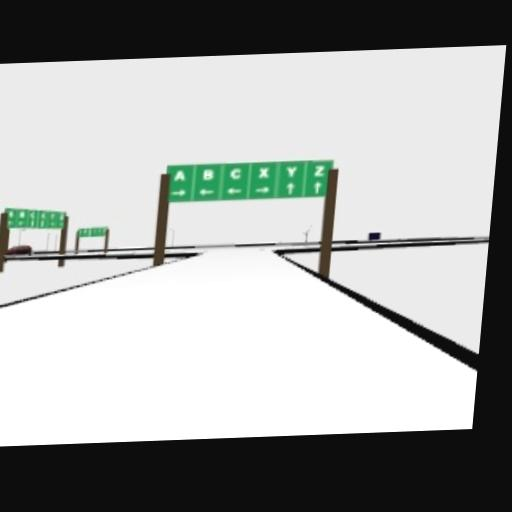A: (172, 168, 187, 183)
B: (200, 167, 215, 182)
C: (229, 167, 242, 180)
Left: (225, 187, 243, 196), (197, 188, 215, 197)
Right: (169, 189, 187, 199), (255, 185, 272, 194)
Straight: (285, 181, 296, 196), (312, 180, 323, 193)
X: (258, 166, 270, 179)
Y: (284, 165, 298, 178)
Z: (313, 164, 327, 177)
